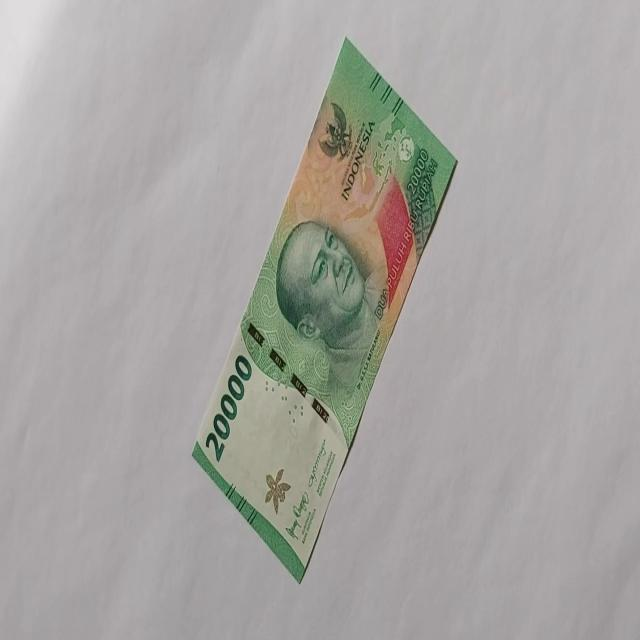dua puluh ribu rupiah: (190, 34, 458, 584), (274, 216, 383, 396), (204, 353, 252, 463)
